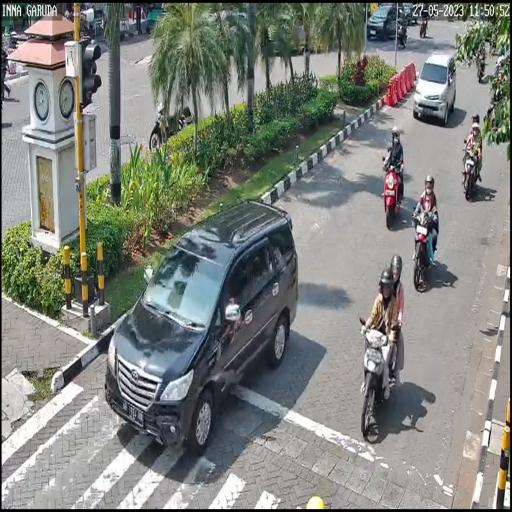mobil: (105, 197, 301, 452), (413, 52, 455, 123)
motor: (358, 314, 402, 439), (411, 204, 438, 292), (378, 154, 405, 229), (461, 136, 483, 202)
